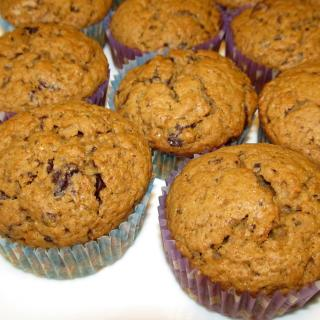Cookie: (0, 102, 158, 265), (163, 142, 320, 294), (113, 48, 258, 156), (0, 22, 109, 115), (258, 62, 320, 166), (233, 0, 320, 71), (109, 0, 223, 52), (0, 0, 112, 30)
Muffin: (0, 0, 320, 320), (160, 145, 320, 317)
